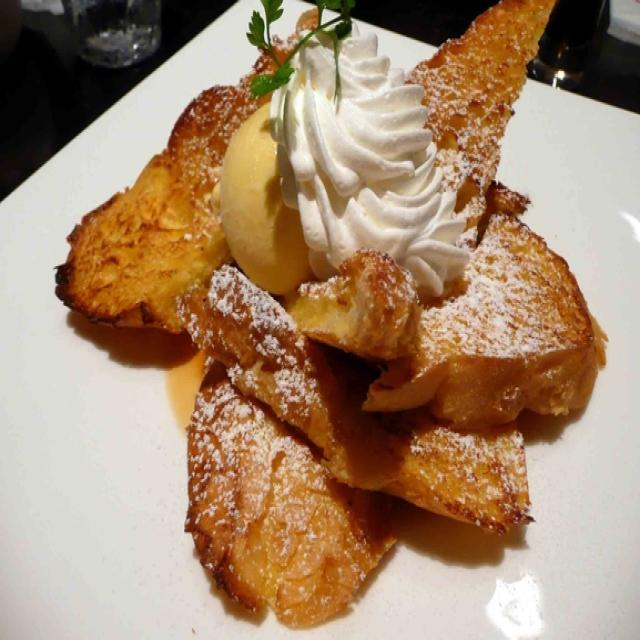面包点心: (30, 7, 616, 624)
